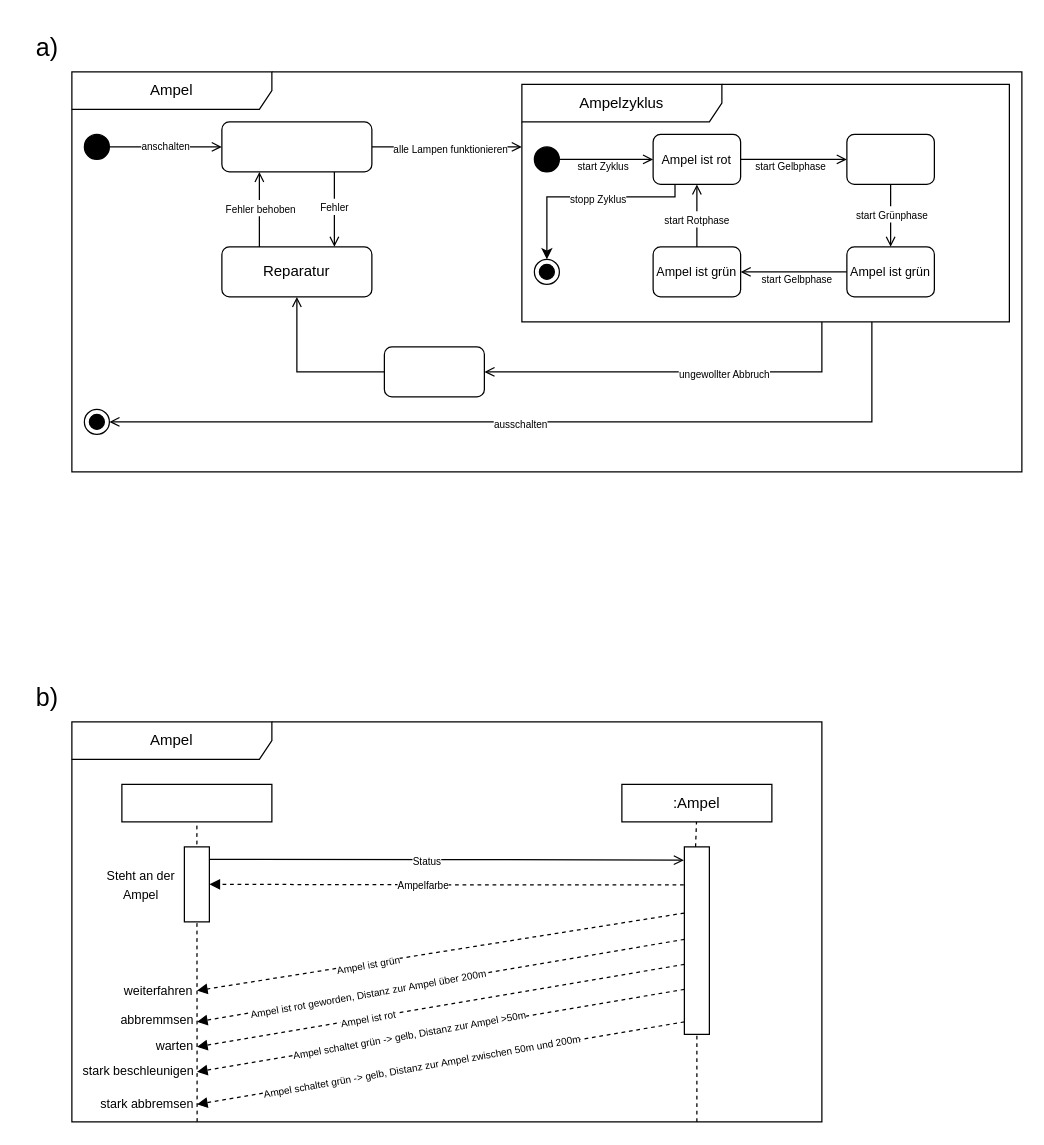
Image size: 1044x1145. Some labels were removed from this diagram. Here are the shapes that lost their labels. From the top down, the centre of each, then its label:
point (296, 146): Rot, Grün, Gelb an
point (890, 158): Ampel ist gelb
point (433, 371): Ausfall
point (196, 802): :Auto
